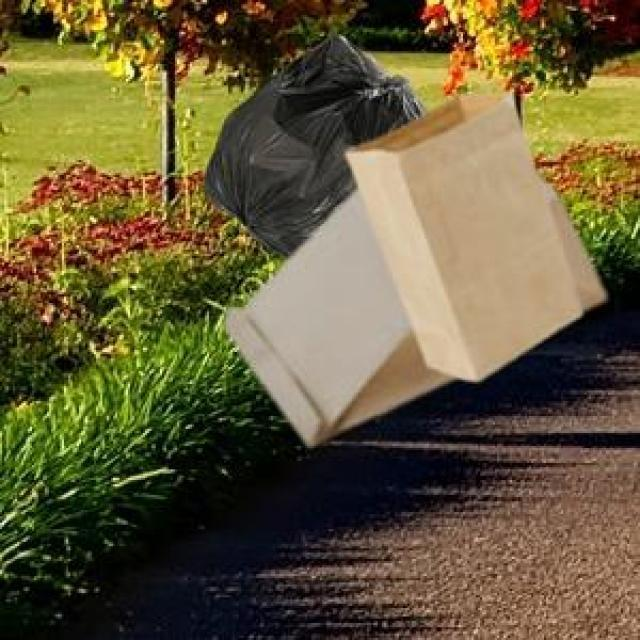miscellaneous trash: (201, 32, 425, 256)
paper: (220, 184, 491, 442), (344, 90, 578, 378)
